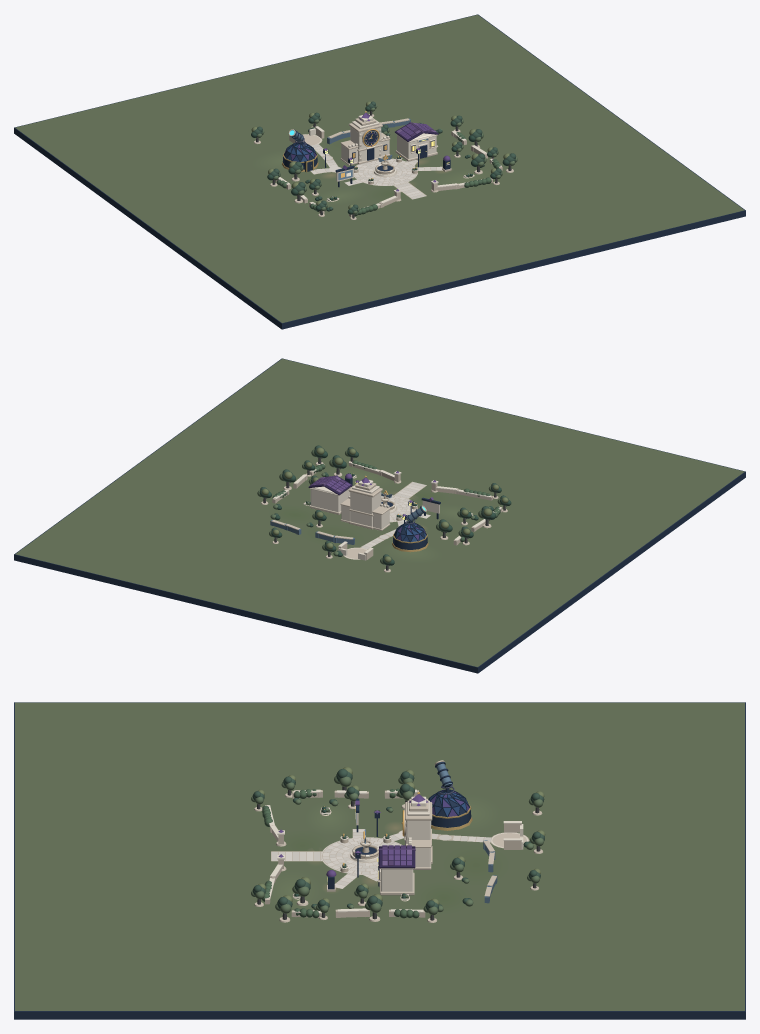
File: town.glb
The picture shows the model from 3 angles, top to bottom: view 1: azimuth 30°, elevation 25°; view 2: azimuth 150°, elevation 25°; view 3: azimuth 270°, elevation 25°; orthographic projection. The views are drawn at different scales.
Visible parts, largest first — view 1: receives-only (×4), casts-shadow (×3); view 2: receives-only (×3), casts-shadow (×4); view 3: receives-only (×5), casts-shadow (×8).
Boxes of the visible parts, box(x1,y1,x2,y2) form: receives-only (×4): box(14, 14, 745, 329); casts-shadow (×3): box(253, 101, 515, 211); receives-only (×3): box(14, 358, 745, 673); casts-shadow (×4): box(259, 445, 508, 565); receives-only (×5): box(14, 702, 745, 1019); casts-shadow (×8): box(251, 769, 544, 918).
Size of the model in its own units: 70 by 7.74 by 70.
